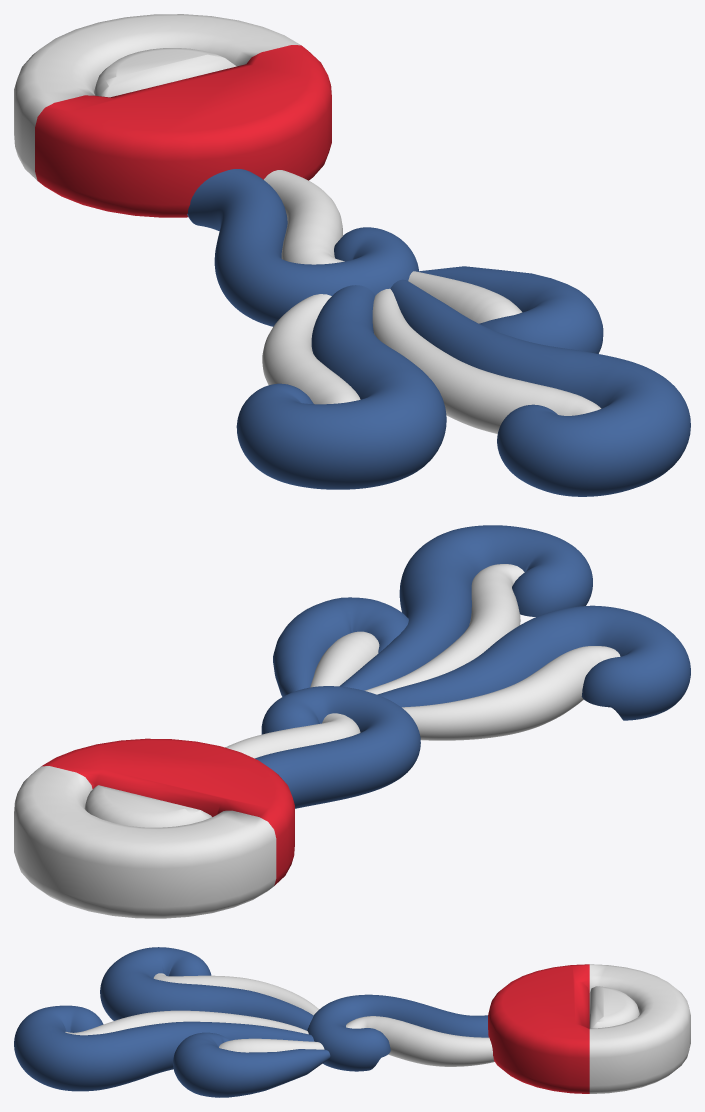
Rendered from citlalin_popoca_3d.gltf.
3 views of the same model, one above another, from view 1: azimuth 30°, elevation 25°; view 2: azimuth 150°, elevation 25°; view 3: azimuth 270°, elevation 25° (orthographic). The views are drawn at different scales.
Parts seen in each view (by area): view 1: outer.001, Outer.006, Outer.005, Outer.007, Inner.006, Outer.004, Inner.005, Inner.007, inner.001, Inner.004; view 2: outer.001, Outer.005, Outer.006, Outer.007, Inner.005, Outer.004, Inner.006, inner.001, Inner.007, Inner.004; view 3: outer.001, Outer.006, Outer.005, Outer.007, Outer.004, Inner.007, Inner.006, Inner.005, inner.001, Inner.004.
Part boxes in pixels (x1,y1,x2,y2): outer.001: (14, 14, 331, 217); Outer.006: (390, 279, 690, 496); Outer.005: (236, 285, 446, 489); Outer.007: (187, 169, 418, 326); Inner.006: (372, 288, 601, 433); Outer.004: (418, 266, 603, 353); Inner.005: (262, 294, 360, 404); Inner.007: (264, 170, 344, 264); inner.001: (94, 48, 236, 97); Inner.004: (408, 271, 522, 323); outer.001: (14, 738, 294, 918); Outer.005: (377, 605, 690, 720); Outer.006: (339, 525, 592, 690); Outer.007: (255, 686, 420, 808); Inner.005: (402, 646, 620, 740); Outer.004: (273, 597, 408, 696); Inner.006: (364, 564, 524, 694); inner.001: (84, 785, 211, 827); Inner.007: (225, 713, 360, 758); Inner.004: (310, 631, 379, 687); outer.001: (488, 964, 690, 1093); Outer.006: (14, 1005, 314, 1091); Outer.005: (100, 947, 313, 1030); Outer.007: (307, 994, 488, 1071); Outer.004: (173, 1032, 330, 1097); Inner.007: (346, 1016, 494, 1066); Inner.006: (65, 1010, 308, 1035); Inner.005: (153, 973, 318, 1015); inner.001: (589, 986, 639, 1028); Inner.004: (219, 1038, 324, 1052).
Size of the model in its own units: 1.05 by 0.2618 by 2.43.
